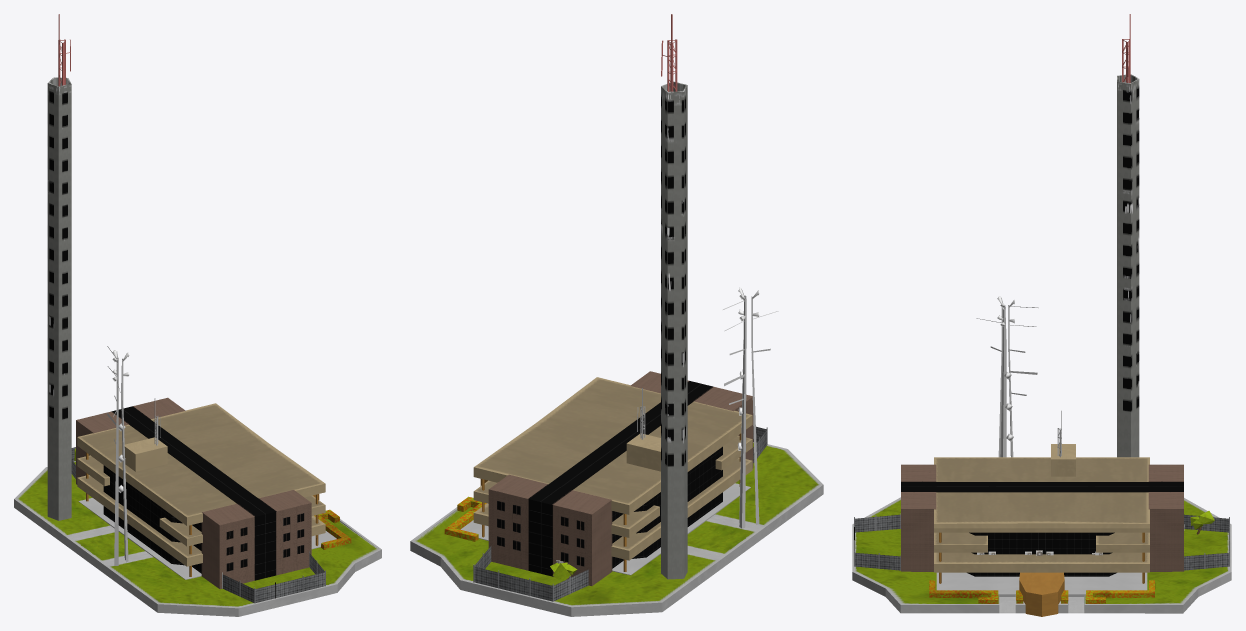
File: embratelLOD1.fbx
3 views of the same model, side by side, from view 1: azimuth 30°, elevation 25°; view 2: azimuth 150°, elevation 25°; view 3: azimuth 270°, elevation 25° (orthographic). The views are drawn at different scales.
Parts seen in each view (by area): view 1: LOD1; view 2: LOD1; view 3: LOD1.
Part boxes in pixels (box(x1,y1,x2,y2)): LOD1: box(14, 14, 381, 616); LOD1: box(410, 14, 823, 616); LOD1: box(852, 14, 1231, 616).
Bounding box in the file's own units: 1886 × 4000 × 2717.
Materials: 1 (1 with a texture image).
